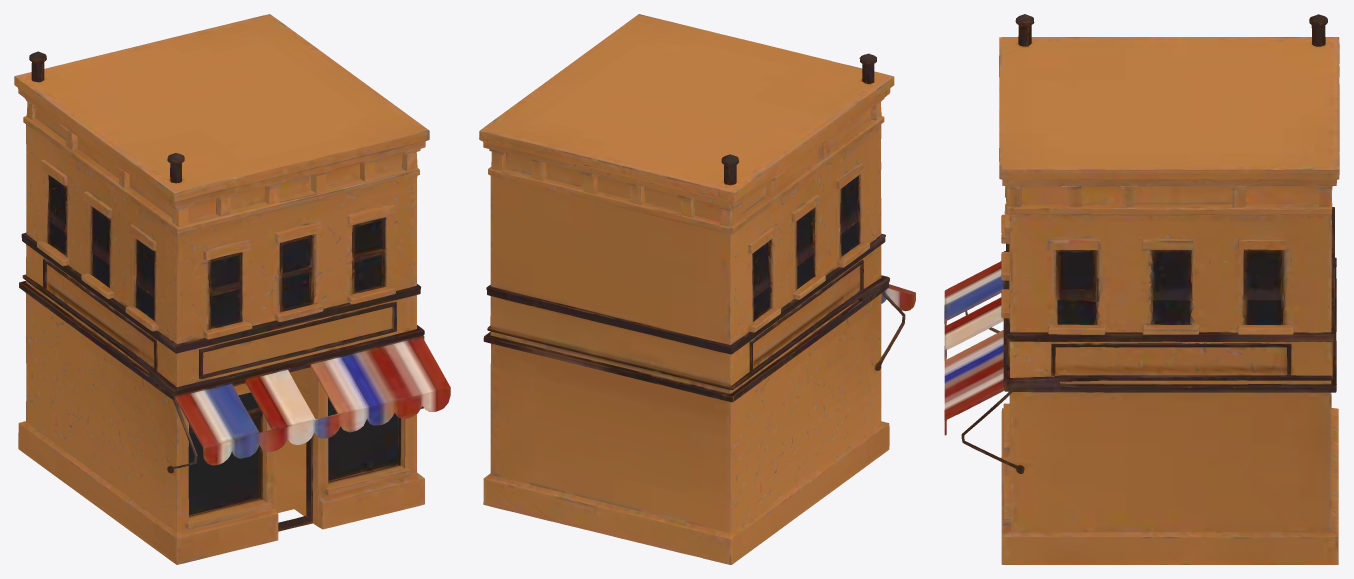
File: facade-shopfront.glb
The picture shows the model from 3 angles, left to right: view 1: azimuth 30°, elevation 25°; view 2: azimuth 150°, elevation 25°; view 3: azimuth 270°, elevation 25°; orthographic projection. The views are drawn at different scales.
Visible parts, largest first — view 1: geometry_0; view 2: geometry_0; view 3: geometry_0.
Boxes of the visible parts, x1=… form: geometry_0: x1=14, y1=14, x2=450, y2=564; geometry_0: x1=479, y1=14, x2=915, y2=564; geometry_0: x1=944, y1=14, x2=1339, y2=564.
Bounding box in the file's own units: 0.667 × 1 × 0.8384.
Materials: 1 (1 with a texture image).
